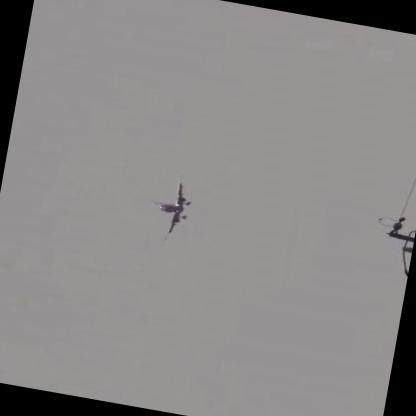plane: (148, 171, 195, 244)
